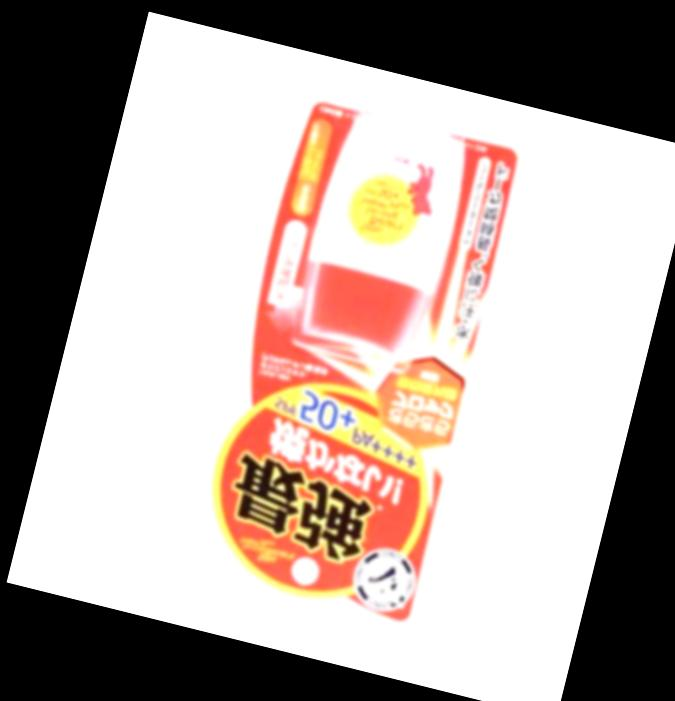cosmetic: (291, 100, 477, 363)
